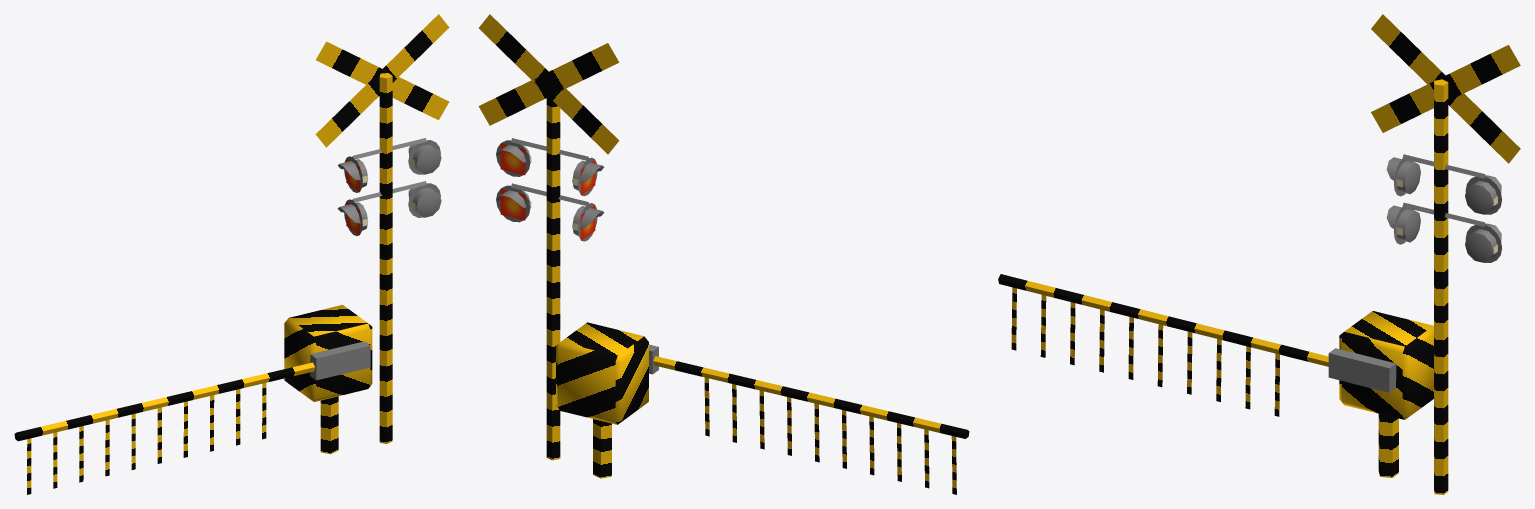
The model's file is HUMI_ANI_L_SHORT.glb.
3 views of the same model, side by side, from view 1: azimuth 30°, elevation 25°; view 2: azimuth 150°, elevation 25°; view 3: azimuth 330°, elevation 25° (orthographic). The views are drawn at different scales.
Parts seen in each view (by area): view 1: humikiri, obj7, obj12, obj11; view 2: humikiri, obj7, obj12, light00, light01; view 3: humikiri, obj7, obj12, obj11.
Boxes of the visible parts, x1,y1,x2,y2 form: humikiri: (284, 14, 449, 454); obj7: (14, 362, 315, 441); obj12: (27, 383, 266, 494); obj11: (310, 341, 370, 380); humikiri: (478, 14, 648, 478); obj7: (653, 356, 969, 438); obj12: (704, 377, 956, 494); light00: (500, 143, 595, 240); light01: (500, 160, 595, 220); humikiri: (1339, 14, 1520, 494); obj7: (998, 274, 1328, 366); obj12: (1011, 287, 1279, 416); obj11: (1328, 348, 1396, 392).
Bounding box in the file's own units: 21.48 × 18.78 × 2.95.
9 materials, 9 textured.
